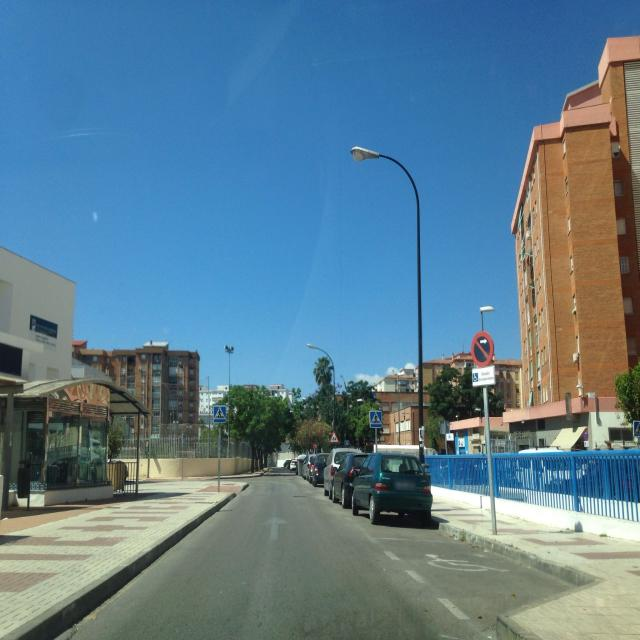forb_stopping: (473, 335, 491, 364)
